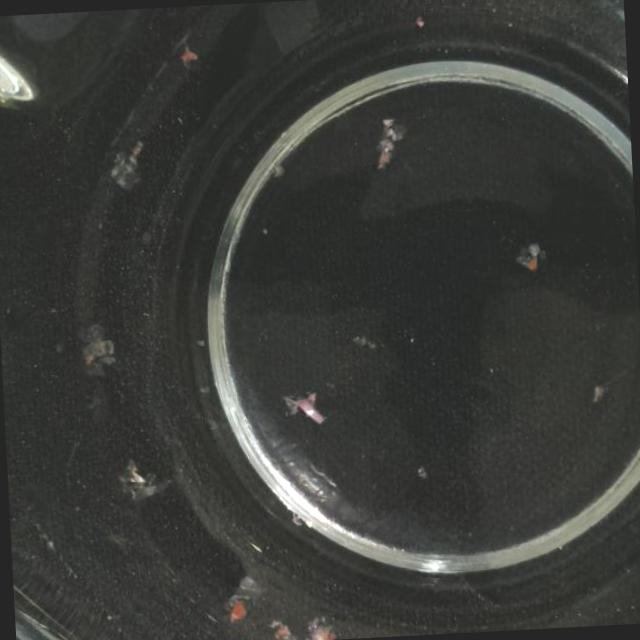fiber: (213, 569, 274, 628), (104, 134, 148, 199), (113, 459, 164, 510), (262, 610, 344, 640), (369, 113, 415, 166), (278, 387, 330, 427), (78, 324, 124, 362), (516, 232, 551, 271), (585, 375, 614, 408), (268, 153, 286, 186)
